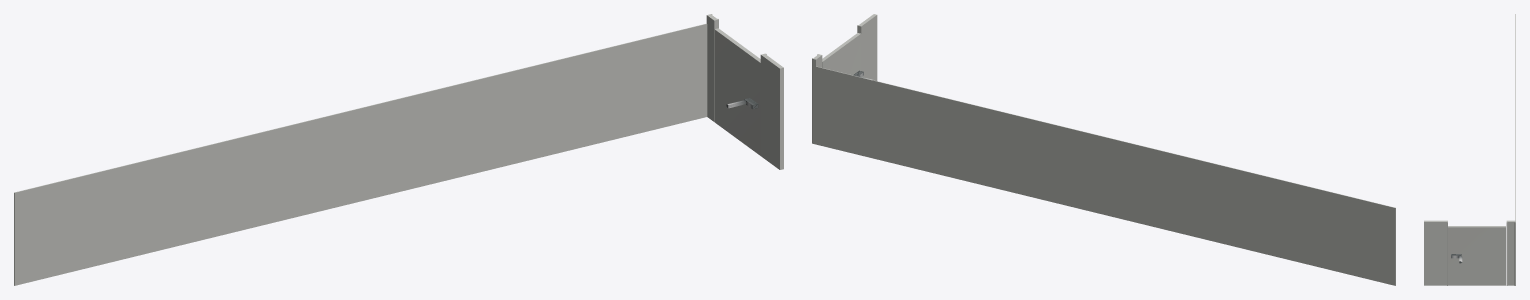
The model's file is DivisóriaBanheiro.fbx.
3 views of the same model, side by side, from view 1: azimuth 30°, elevation 25°; view 2: azimuth 150°, elevation 25°; view 3: azimuth 270°, elevation 25° (orthographic). The views are drawn at different scales.
Parts seen in each view (by area): view 1: group_ 2.071, group_ 2.072, group_.137, group_ 3.039; view 2: group_ 2.071, group_ 2.072, group_.137; view 3: group_ 2.072, group_.137, group_ 3.039, group_ 2.071, Group#26 3.001, Group#26.001, group_ 3.040.
Part boxes in pixels (x1,y1,x2,y2): group_ 2.071: (14,23,707,285); group_ 2.072: (714,28,760,155); group_.137: (760,53,783,169); group_ 3.039: (706,14,718,121); group_ 2.071: (814,66,1395,285); group_ 2.072: (822,33,861,75); group_.137: (858,14,877,80); group_ 2.072: (1448,226,1505,285); group_.137: (1424,220,1447,285); group_ 3.039: (1506,220,1515,285); group_ 2.071: (1515,14,1515,220); Group#26 3.001: (1514,222,1515,285); Group#26.001: (1506,222,1507,285); group_ 3.040: (1451,254,1462,263).
Bounding box in the file's own units: 13.36 × 1.8 × 2.35.
3 materials, 2 textured.
